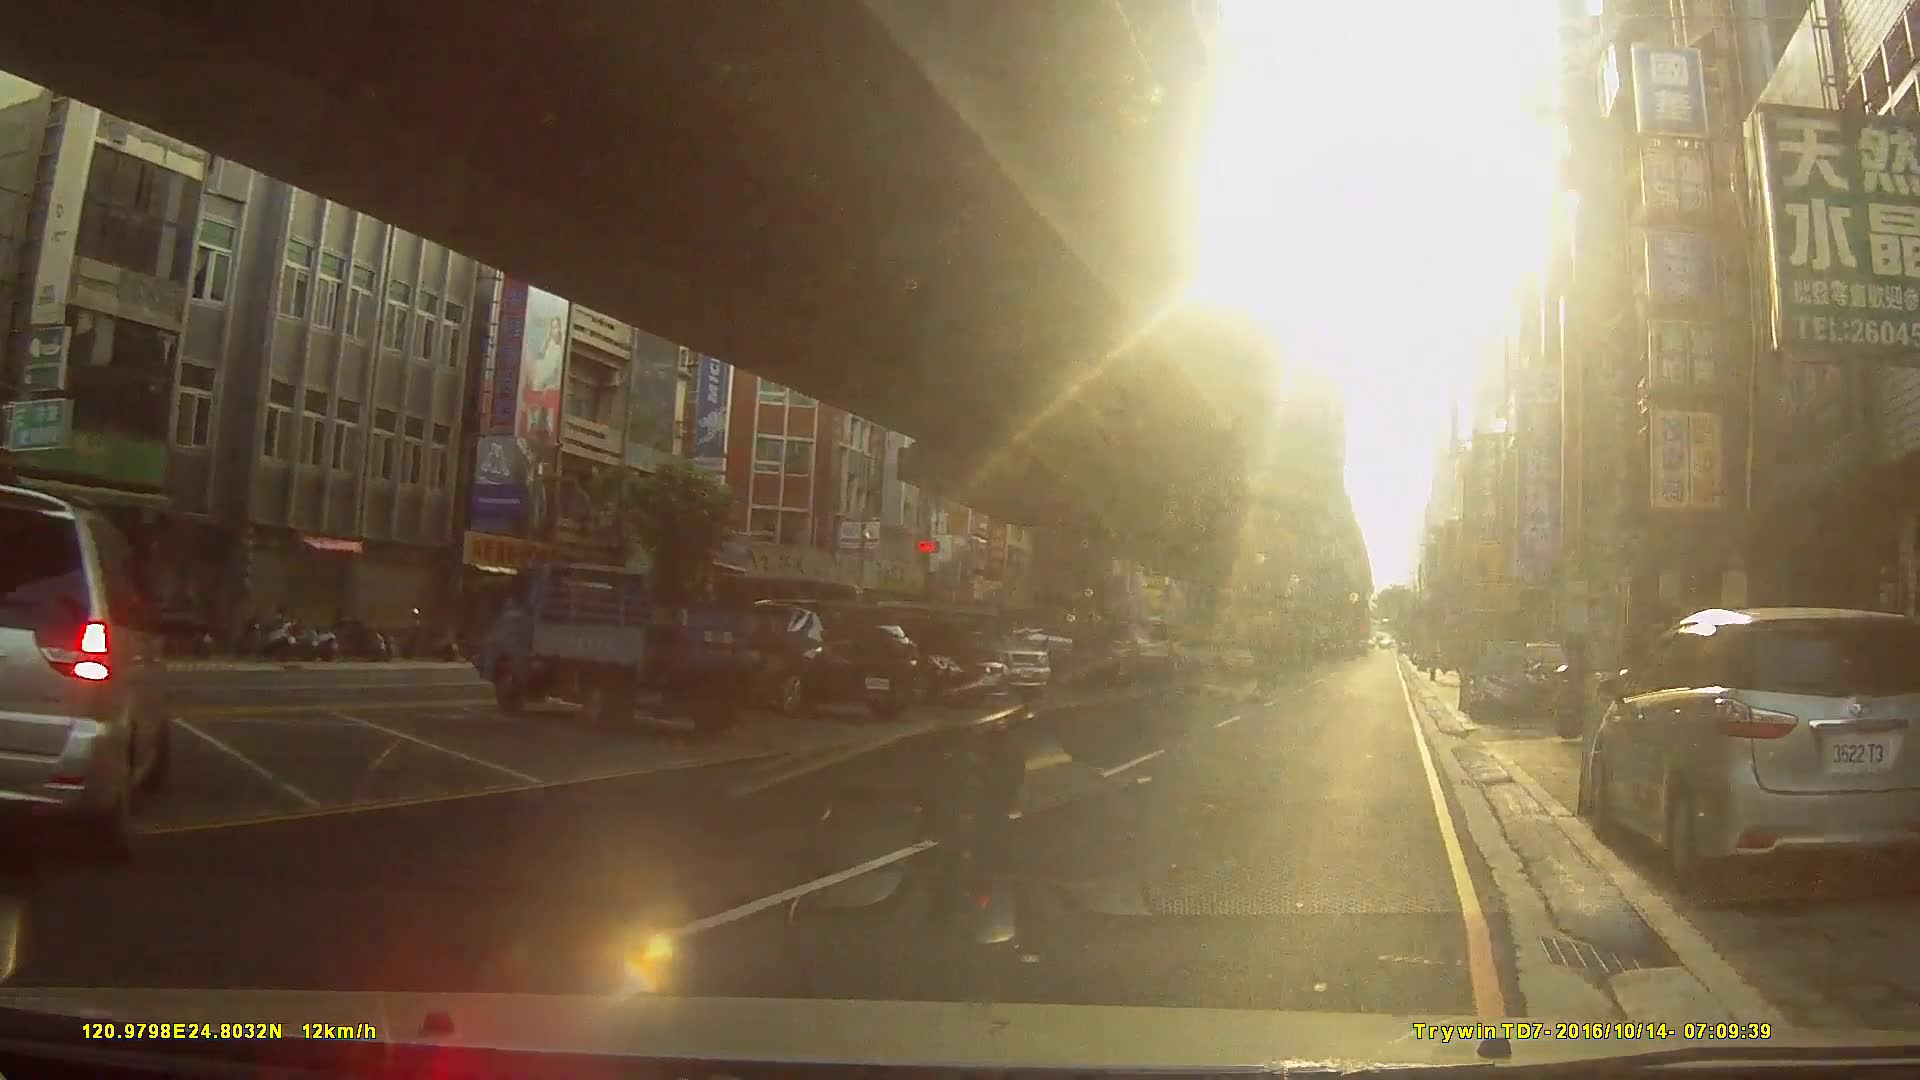vehicle: (1584, 603, 1920, 887), (0, 481, 170, 872), (468, 560, 787, 738), (716, 596, 918, 720), (837, 611, 1009, 705), (975, 626, 1117, 686)
